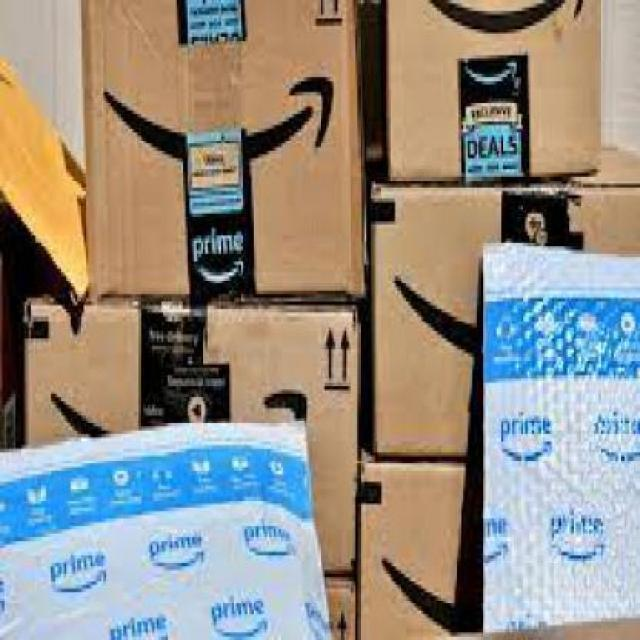box: (74, 0, 370, 311), (21, 299, 354, 570), (363, 145, 640, 456), (364, 463, 640, 640), (386, 0, 599, 180)
